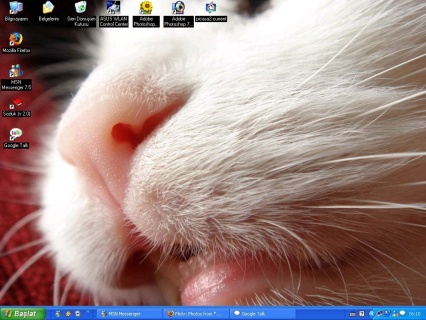Cat: (0, 0, 425, 306)
